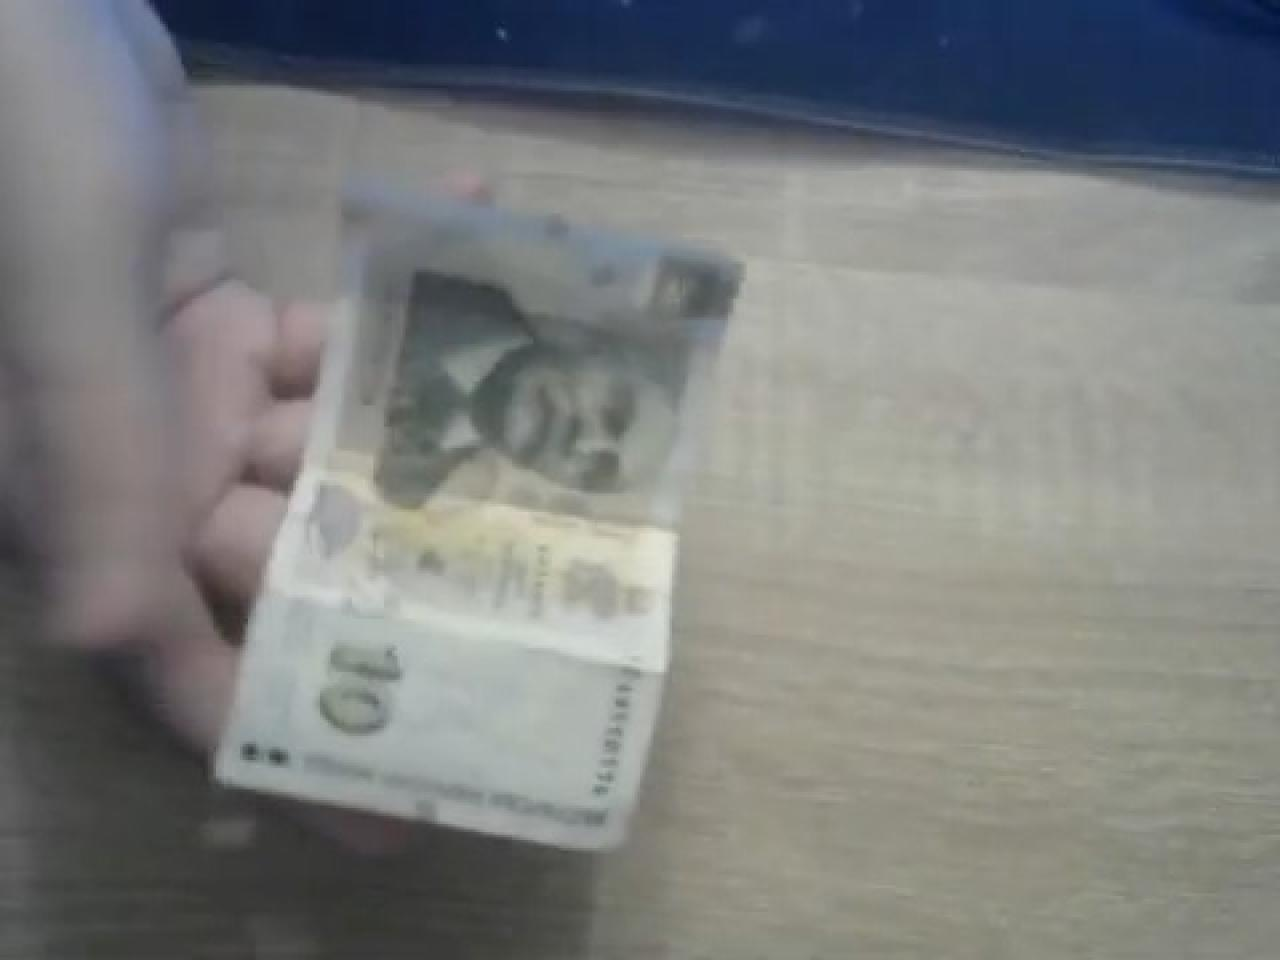10leva: (211, 190, 747, 859)
